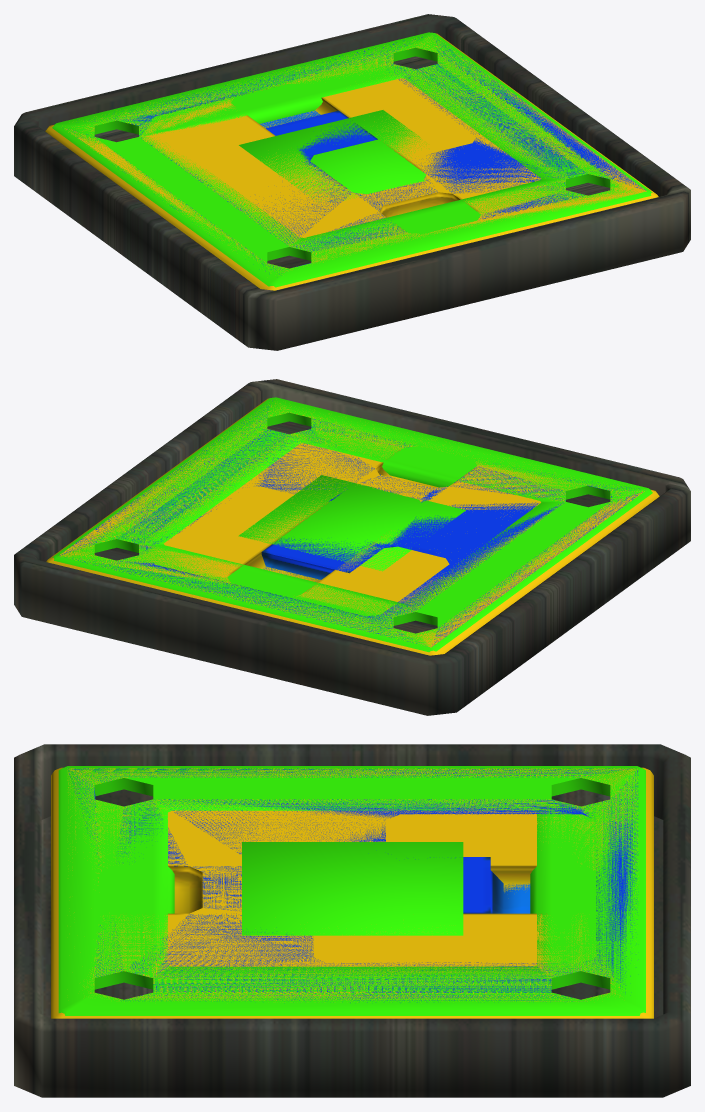
File: flippanel.dae
The picture shows the model from 3 angles, top to bottom: view 1: azimuth 30°, elevation 25°; view 2: azimuth 150°, elevation 25°; view 3: azimuth 270°, elevation 25°; orthographic projection. The views are drawn at different scales.
Visible parts, largest first — view 1: n0b0, n1b1, n2b2, n3b3; view 2: n0b0, n1b1, n2b2, n3b3; view 3: n1b1, n0b0, n2b2, n3b3.
Boxes of the visible parts, x1,y1,x2,y2 form: n0b0: (14,14,690,350); n1b1: (52,32,652,287); n2b2: (45,33,658,290); n3b3: (67,36,645,271); n0b0: (14,379,690,715); n1b1: (52,397,652,652); n2b2: (46,398,659,655); n3b3: (59,400,642,646); n1b1: (58,766,645,1015); n0b0: (14,744,690,1097); n2b2: (51,767,653,1018); n3b3: (68,768,638,1002).
Size of the model in its own units: 800 by 100 by 800.
